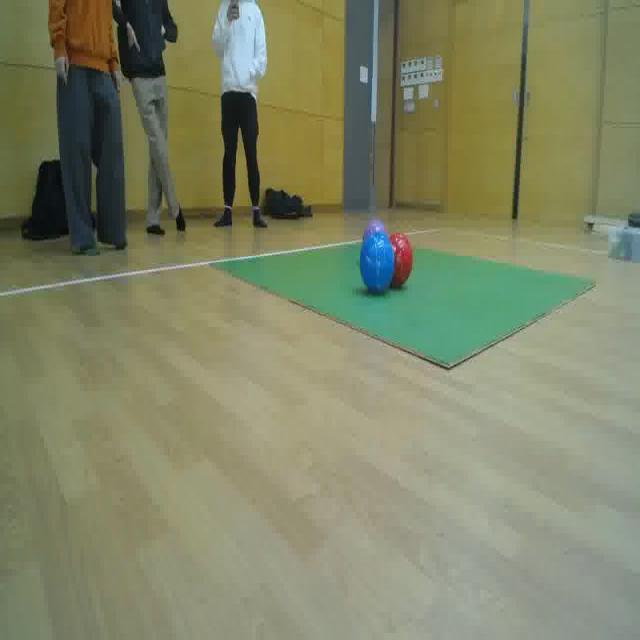blue_ball: (361, 233, 394, 295)
purple_ball: (366, 218, 387, 242)
red_ball: (388, 231, 414, 289)
